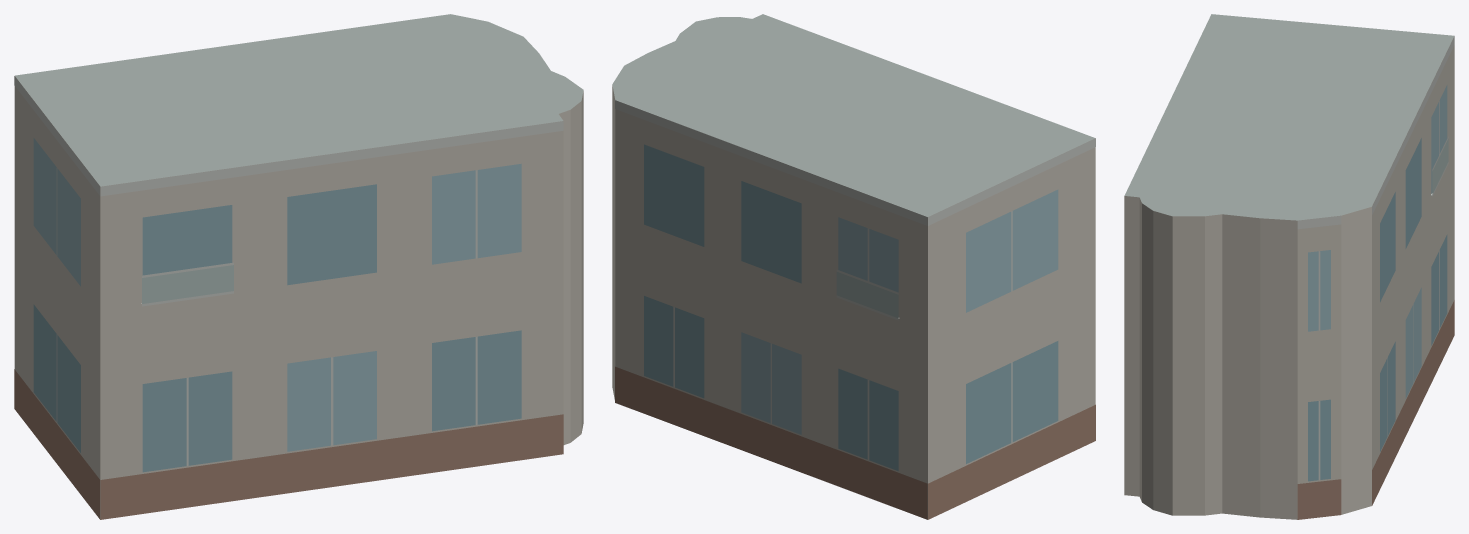
Rendered from survey-upis-32728324.glb.
3 renders of one model, left to right at view 1: azimuth 30°, elevation 25°; view 2: azimuth 150°, elevation 25°; view 3: azimuth 270°, elevation 25°, orthographic. The views are drawn at different scales.
Visible parts, largest first — view 1: survey-upis-32728324.tmp; view 2: survey-upis-32728324.tmp; view 3: survey-upis-32728324.tmp.
Part boxes in pixels (x1,y1,x2,y2): survey-upis-32728324.tmp: (14, 14, 583, 519); survey-upis-32728324.tmp: (612, 14, 1095, 519); survey-upis-32728324.tmp: (1124, 14, 1454, 519).
Bounding box in the file's own units: 12.29 × 8.3 × 8.31.
